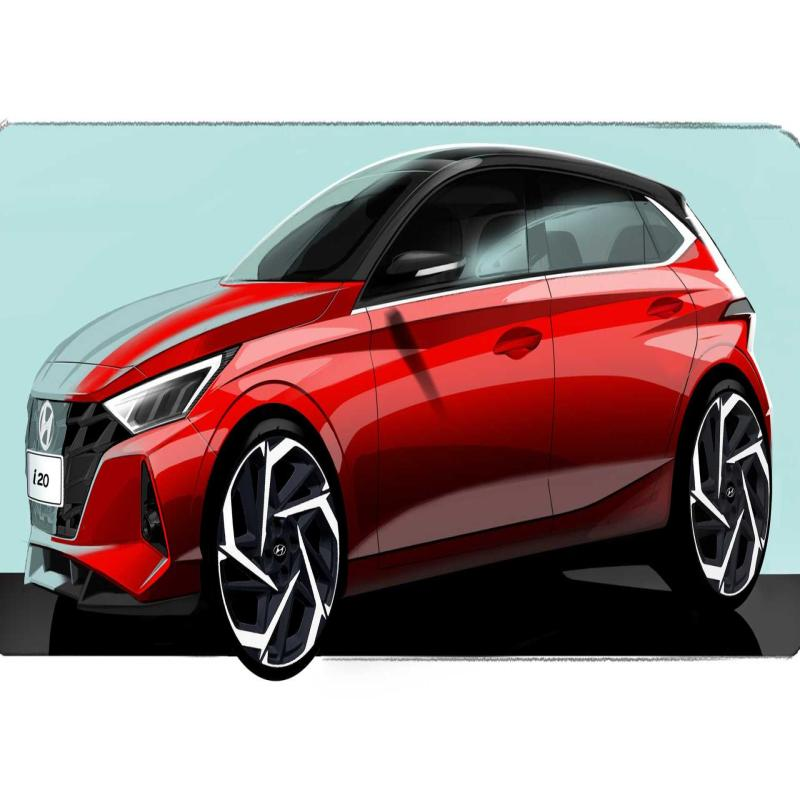car: (27, 145, 780, 688)
